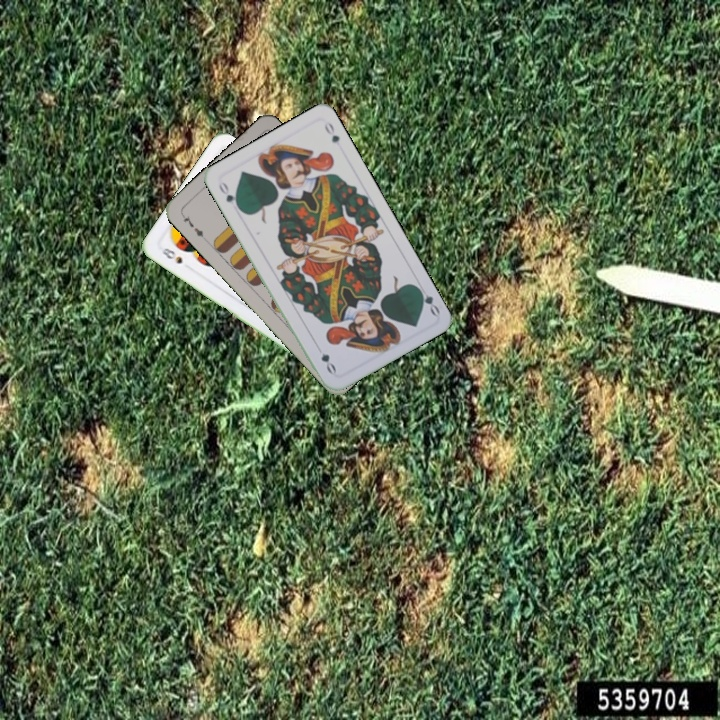E7: (177, 210, 209, 243)
GO: (412, 282, 443, 318), (214, 178, 243, 213)
S8: (158, 244, 185, 266)
